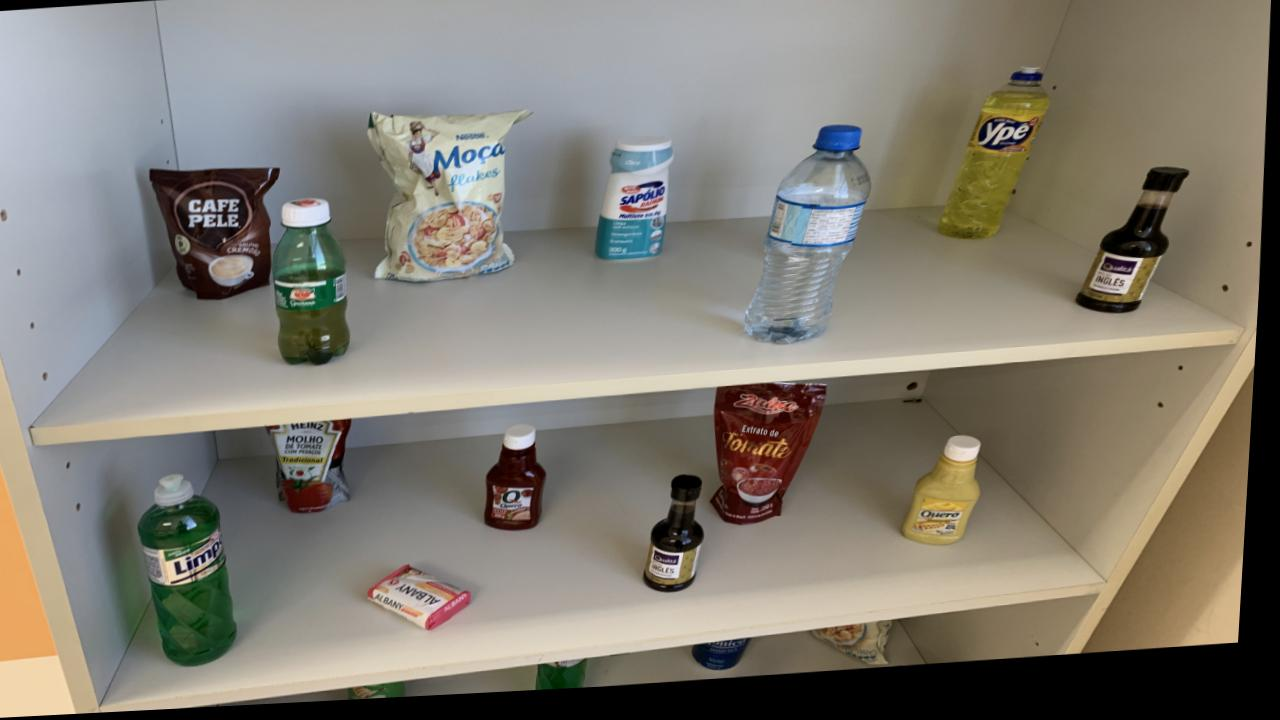Cleaner-Cleanup_Items: (598, 143, 676, 267)
Coffee-Pantry_Items: (153, 170, 281, 302)
Detergent-Cleanup_Items: (145, 477, 245, 669), (943, 80, 1052, 250)
English_Sauce-Pantry_Items: (1081, 179, 1192, 326), (651, 482, 712, 600)
Flakes-Snacks: (369, 115, 532, 286)
Guarana-Drinks: (275, 202, 354, 368)
Ketchup-Pantry_Items: (490, 431, 552, 537)
Mustard-Pantry_Items: (909, 446, 987, 556)
Soap-Cleanup_Items: (376, 570, 478, 635)
Tomato_Sauce-Pantry_Items: (718, 391, 831, 533), (271, 424, 356, 517)
Water_Bottle-Drinks: (748, 134, 875, 353)
